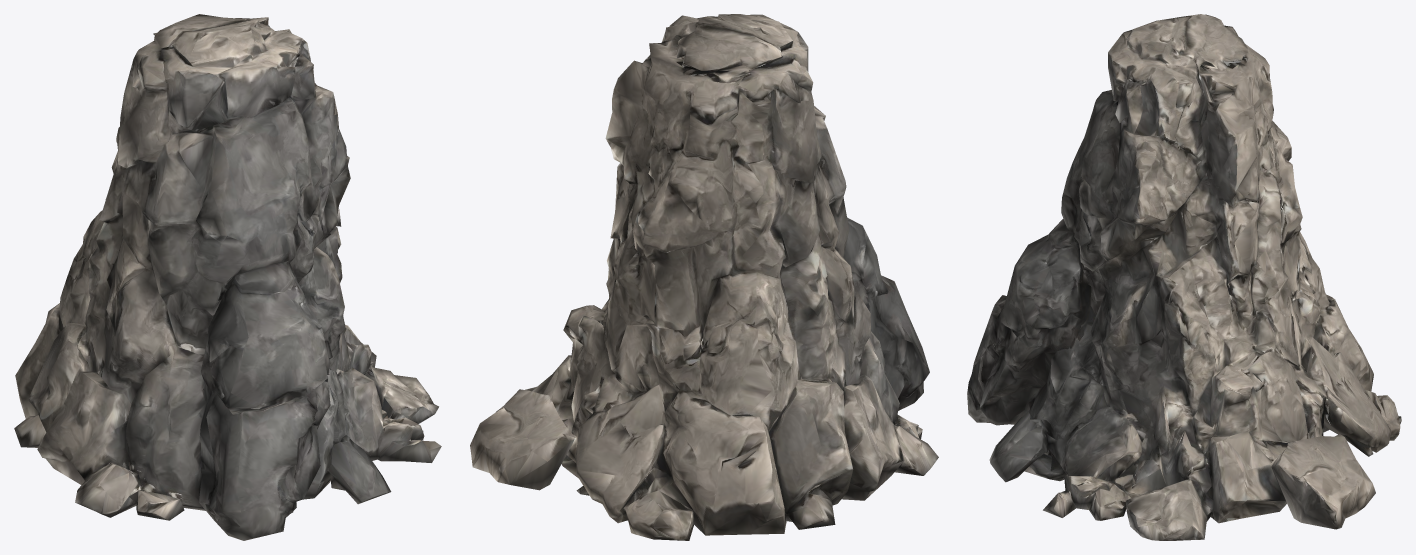
Rendered from tor_a_lod1.glb.
3 views of the same model, side by side, from view 1: azimuth 30°, elevation 25°; view 2: azimuth 150°, elevation 25°; view 3: azimuth 270°, elevation 25° (orthographic). The views are drawn at different scales.
Visible parts, largest first — view 1: tor_a_lod1; view 2: tor_a_lod1; view 3: tor_a_lod1.
Part boxes in pixels (bbox=[...]): tor_a_lod1: bbox=[14, 14, 441, 540]; tor_a_lod1: bbox=[470, 14, 938, 540]; tor_a_lod1: bbox=[967, 14, 1401, 540].
Size of the model in its own units: 21.98 by 23.94 by 22.67.
Materials: 1 (1 with a texture image).
